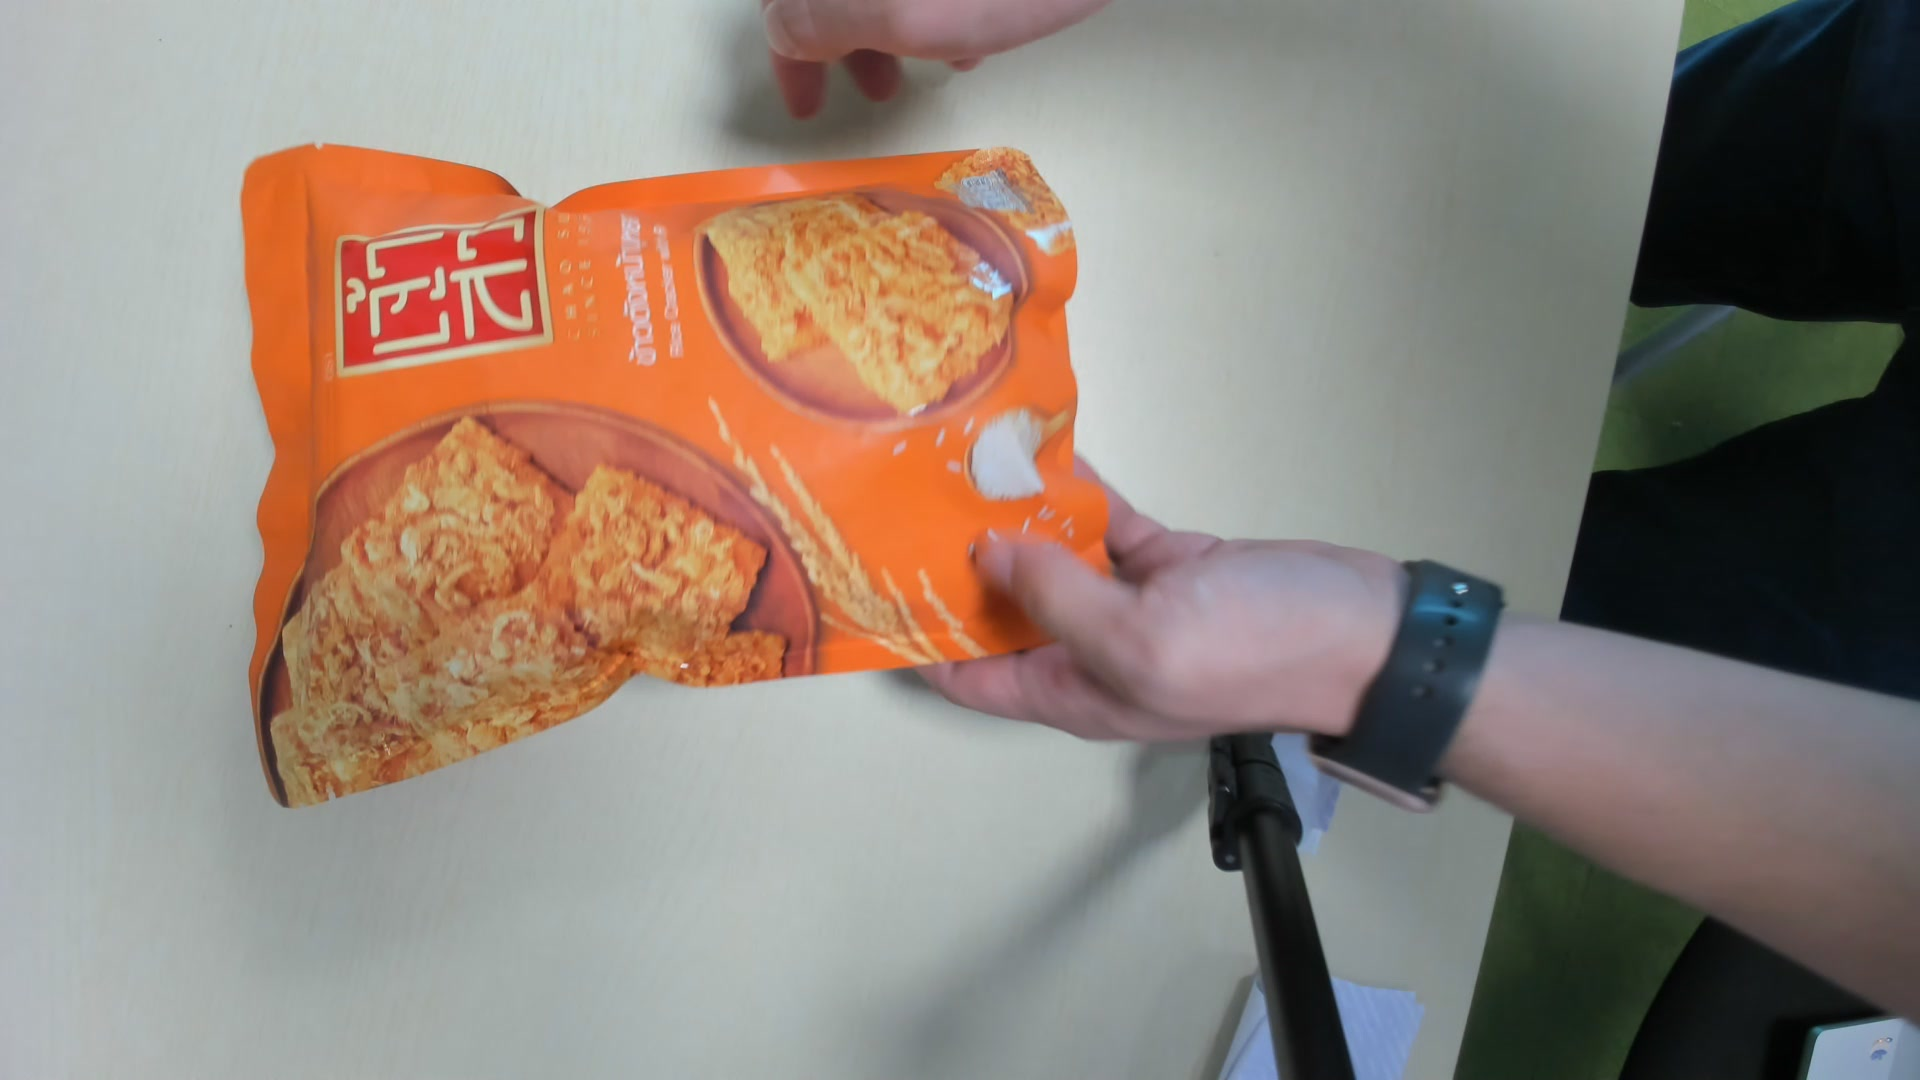PotatoChipsKeropok_0-99g_NonHalal_NonHealthy: (243, 146, 1112, 822)
